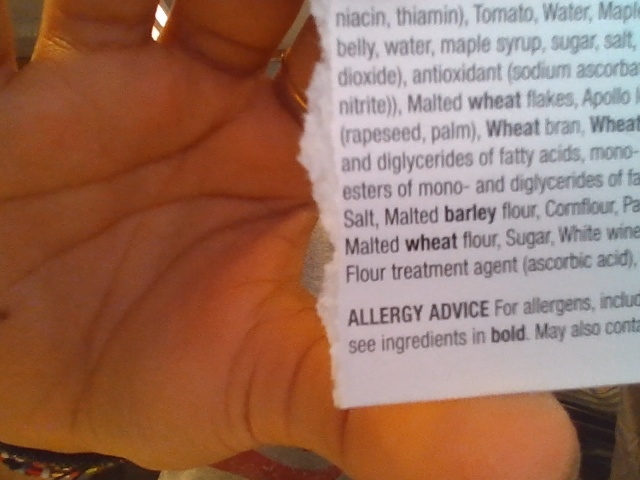wheat: (403, 234, 460, 251)
